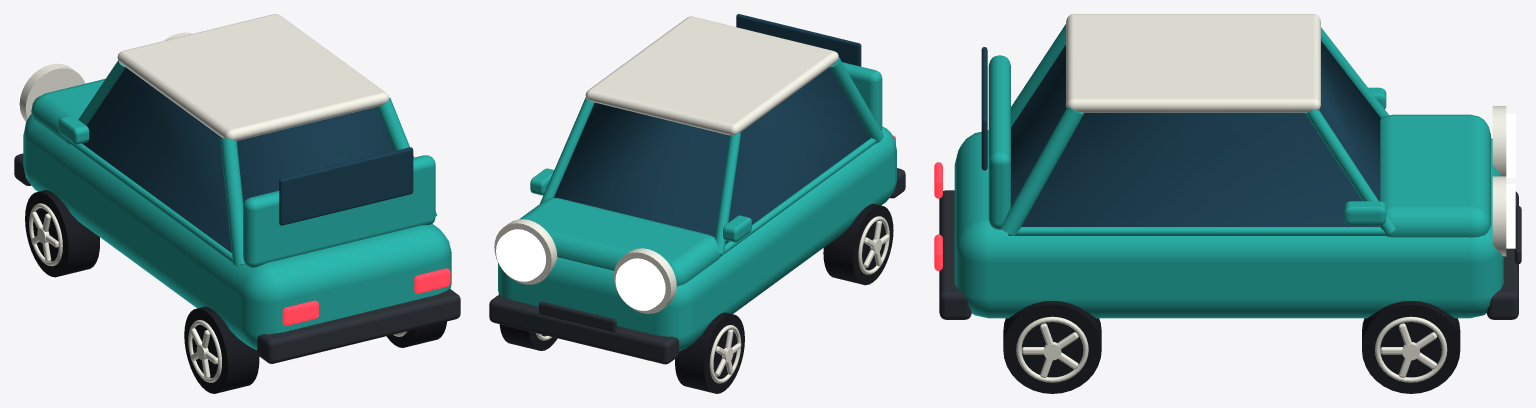
Rendered from city-hatchback.glb.
3 renders of one model, left to right at view 1: azimuth 30°, elevation 25°; view 2: azimuth 150°, elevation 25°; view 3: azimuth 270°, elevation 25°, orthographic. The views are drawn at different scales.
Visible parts, largest first — view 1: RoundedBody, Windows, Roof, RearPanel, Tire (×3), SmallRearWindow, RearBumper, C_Pillar (×2), Hood, EyeBezel, WindowSill, TailLight (×2) (+3 smaller); view 2: Windows, RoundedBody, Roof, Hood, Tire (×3), FrontBumper, BigRoundHeadlight (×2), A_Pillar (×2), EyeBezel (×2), SmallRearWindow, WindowSill, RearPanel (+4 smaller); view 3: RoundedBody, Windows, Roof, Hood, Tire (×2), RearPanel, C_Pillar (×2), WindowSill, A_Pillar (×2), Rim (×2), RearBumper, EyeBezel (×2) (+4 smaller).
Boxes of the visible parts, bbox=[...] form: RoundedBody: bbox=[23, 114, 451, 349]; Windows: bbox=[82, 67, 394, 252]; Roof: bbox=[117, 14, 388, 140]; RearPanel: bbox=[243, 155, 435, 267]; Tire (×3): bbox=[25, 190, 446, 393]; SmallRearWindow: bbox=[279, 147, 413, 225]; RearBumper: bbox=[257, 288, 460, 363]; C_Pillar (×2): bbox=[220, 98, 437, 265]; Hood: bbox=[31, 78, 105, 144]; EyeBezel: bbox=[19, 63, 85, 121]; WindowSill: bbox=[70, 142, 244, 268]; TailLight (×2): bbox=[282, 268, 450, 325]; Windows: bbox=[554, 67, 870, 244]; RoundedBody: bbox=[498, 126, 896, 351]; Roof: bbox=[585, 16, 838, 135]; Hood: bbox=[519, 198, 720, 286]; Tire (×3): bbox=[499, 203, 893, 393]; FrontBumper: bbox=[489, 294, 678, 364]; BigRoundHeadlight (×2): bbox=[496, 229, 665, 310]; A_Pillar (×2): bbox=[540, 97, 741, 254]; EyeBezel (×2): bbox=[494, 219, 676, 313]; SmallRearWindow: bbox=[736, 14, 861, 66]; WindowSill: bbox=[720, 138, 876, 256]; RearPanel: bbox=[842, 62, 882, 130]; RoundedBody: bbox=[954, 130, 1503, 318]; Windows: bbox=[1011, 41, 1380, 226]; Roof: bbox=[1066, 14, 1320, 112]; Hood: bbox=[1380, 114, 1490, 237]; Tire (×2): bbox=[1003, 301, 1460, 393]; RearPanel: bbox=[988, 55, 1010, 229]; C_Pillar (×2): bbox=[1000, 24, 1083, 235]; WindowSill: bbox=[1008, 227, 1390, 235]; A_Pillar (×2): bbox=[1305, 27, 1395, 234]; Rim (×2): bbox=[1016, 316, 1447, 382]; RearBumper: bbox=[939, 190, 971, 319]; EyeBezel (×2): bbox=[1492, 106, 1506, 256].
Bounding box in the file's own units: 1.77 × 1.8 × 3.45.
